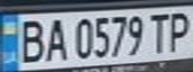0: (72, 15, 93, 61)
5: (90, 13, 112, 60)
7: (109, 12, 130, 57)
9: (124, 11, 148, 56)
A: (42, 15, 69, 62)
B: (12, 16, 48, 64)
P: (163, 8, 193, 53)
T: (145, 10, 172, 54)
